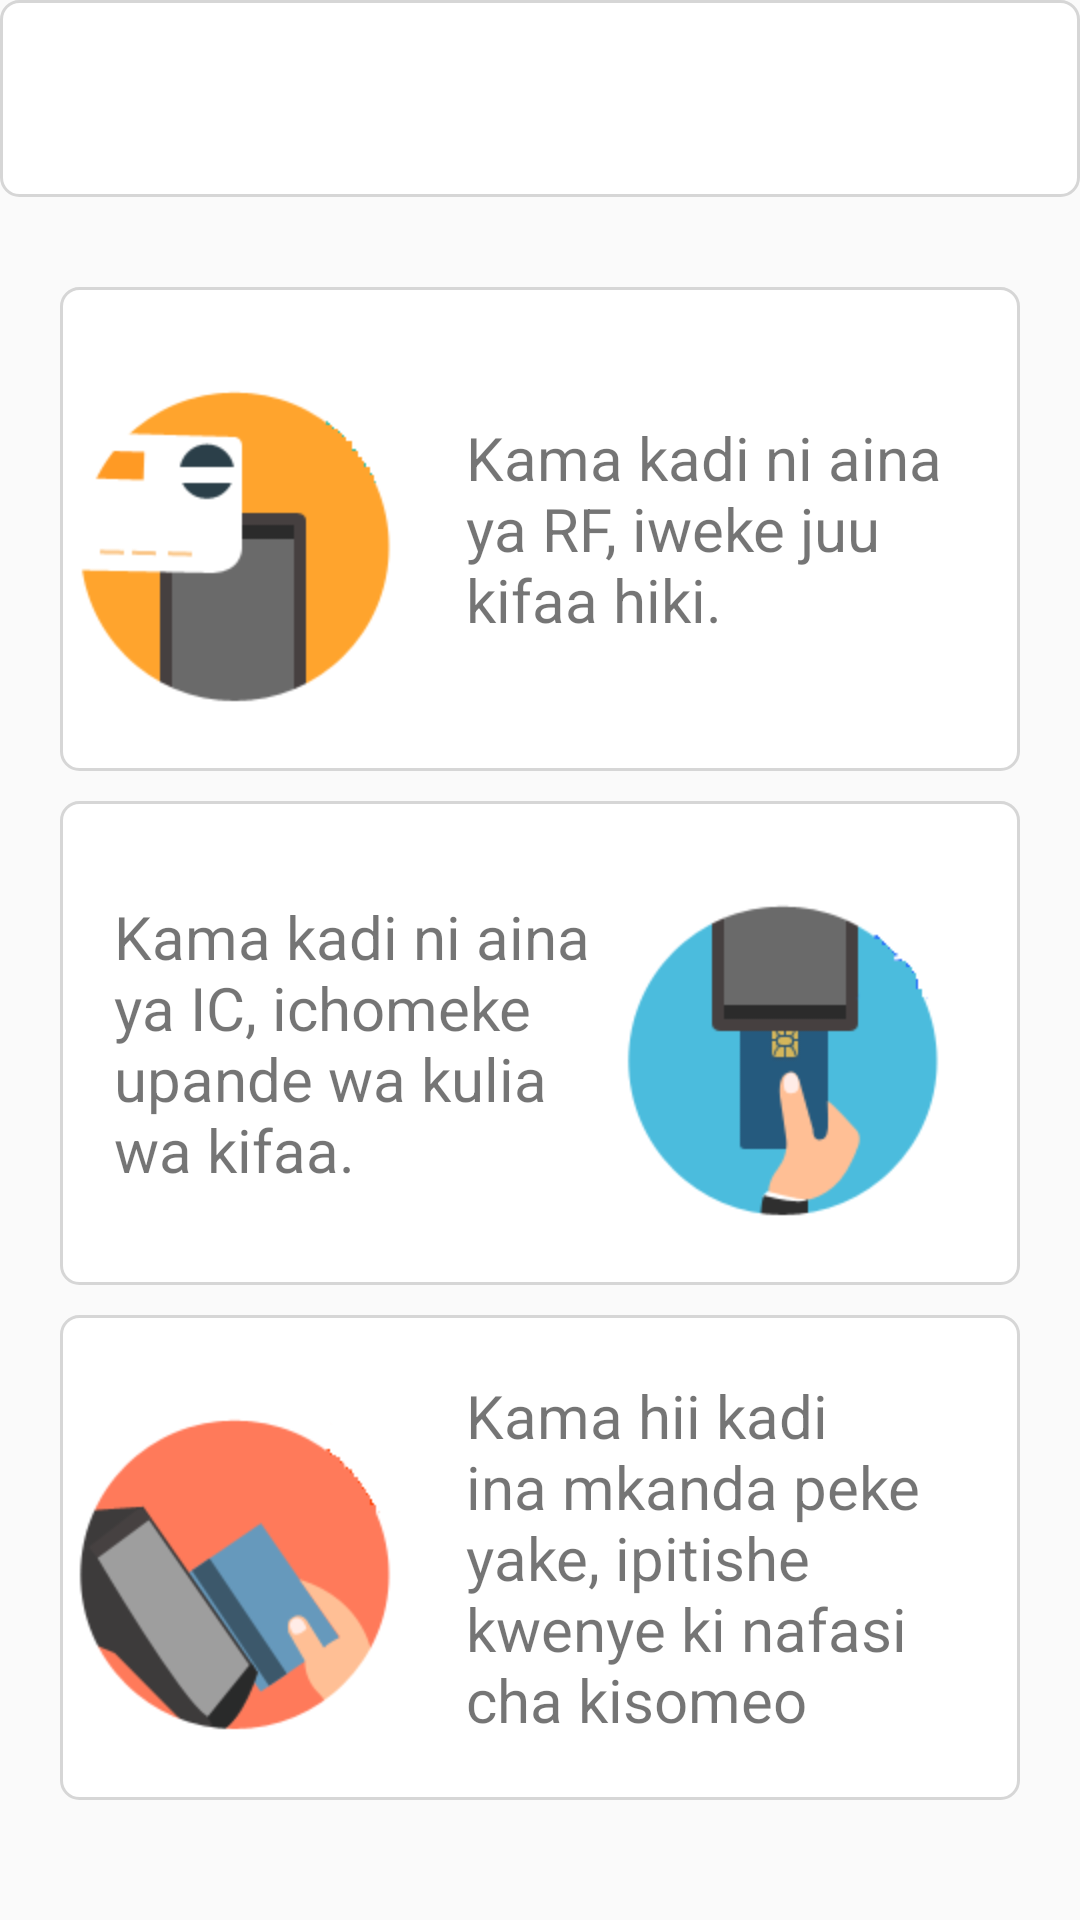

Icon bounding boxes for this 1080px x 1920px phone screenshot, format (x1, y1, x2, y2):
card: (627, 906, 938, 1216)
